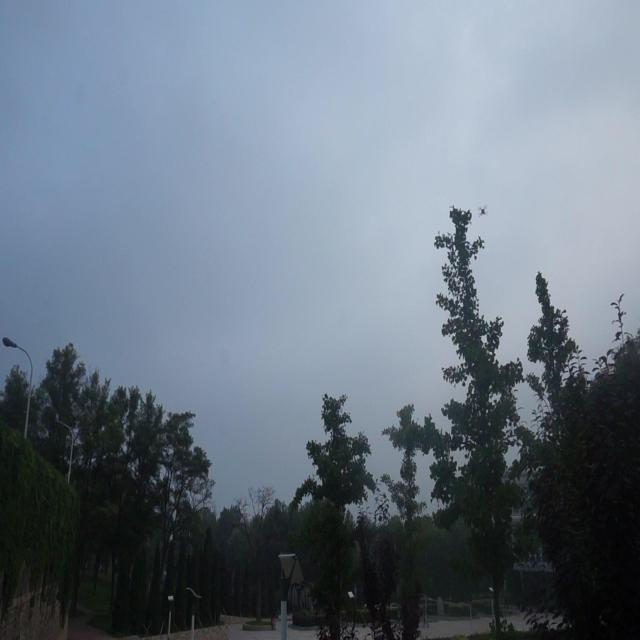drone: (476, 202, 488, 220)
